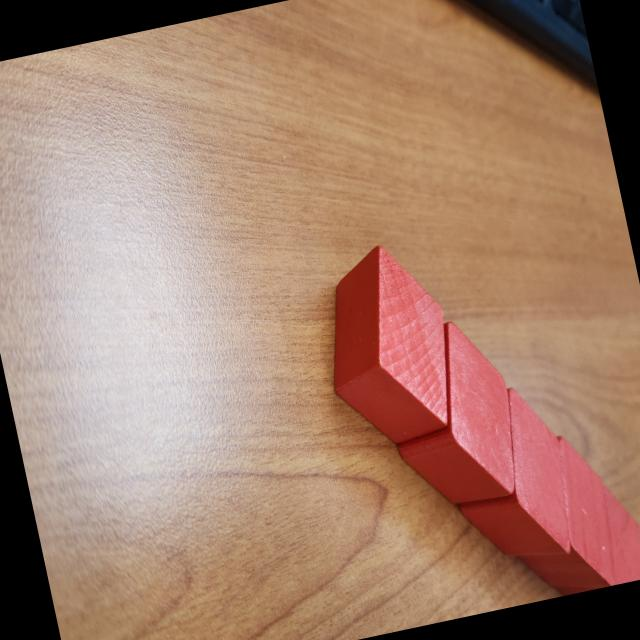red: (305, 233, 468, 454), (372, 310, 530, 516), (436, 378, 584, 570), (494, 428, 624, 600), (591, 475, 640, 584)
